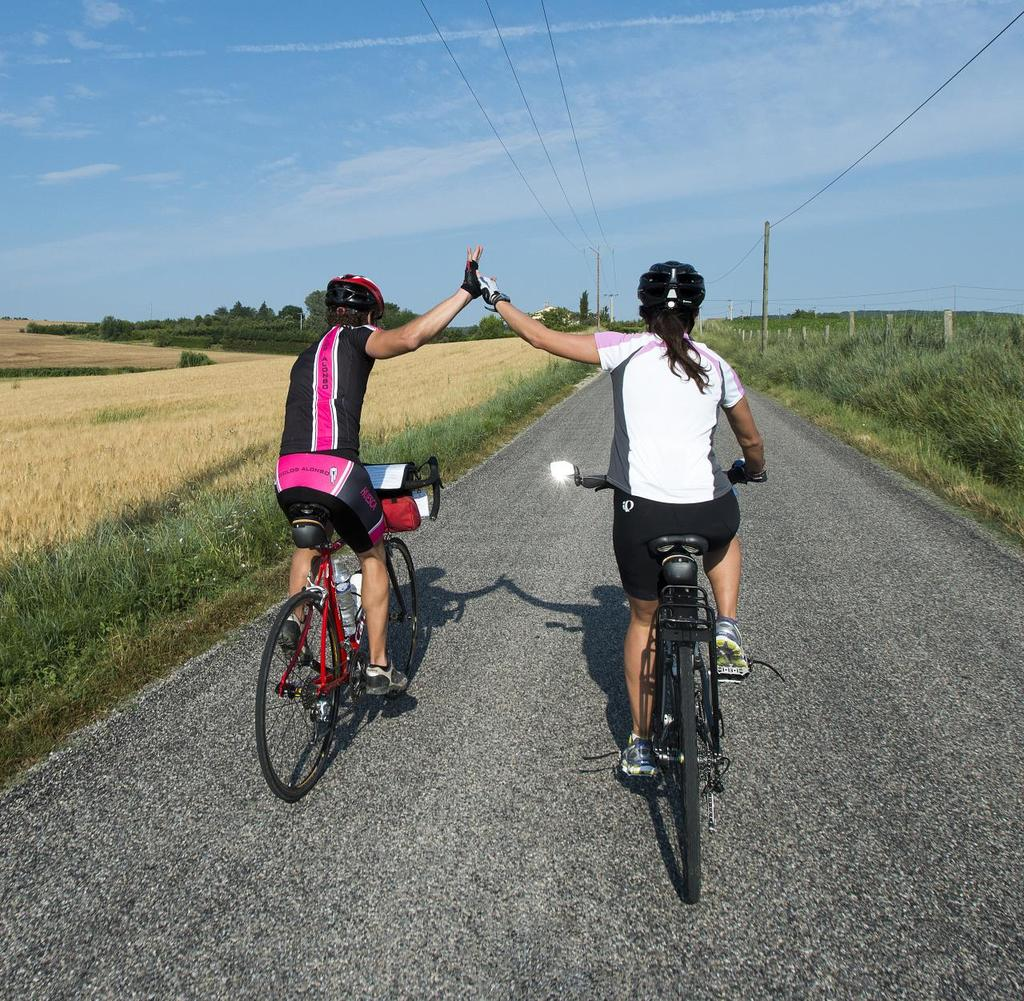Bike: (509, 454, 811, 918), (197, 422, 436, 788)
